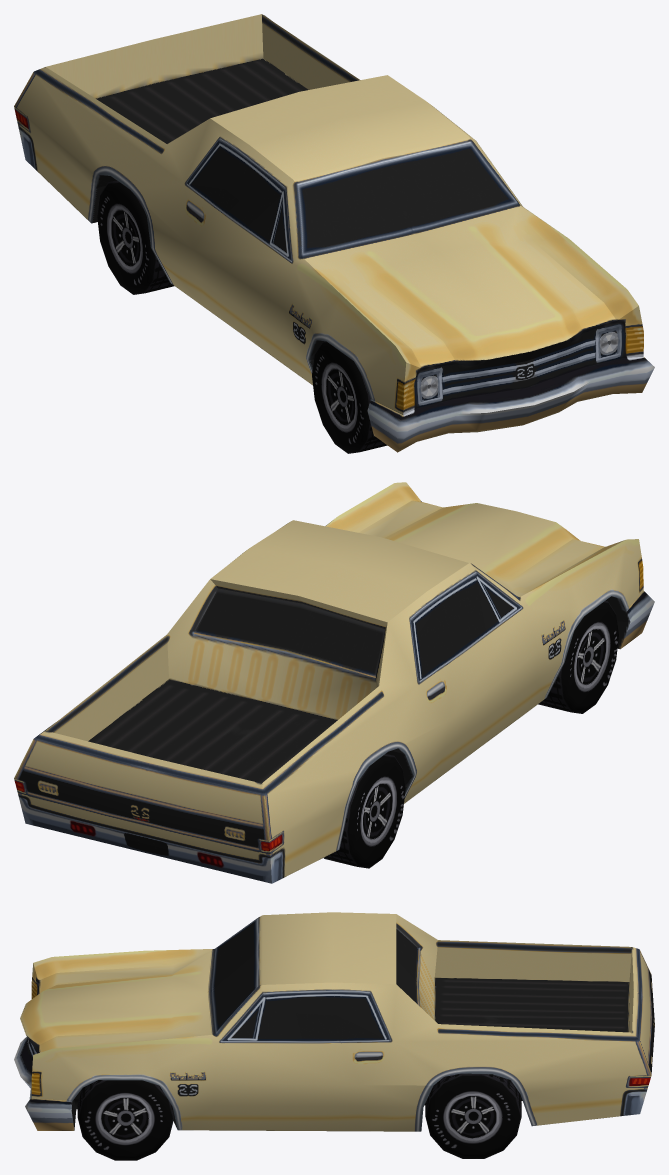
Rendered from Palamino.fbx.
3 renders of one model, top to bottom at view 1: azimuth 30°, elevation 25°; view 2: azimuth 150°, elevation 25°; view 3: azimuth 270°, elevation 25°, orthographic. The views are drawn at different scales.
Visible parts, largest first — view 1: PalaminoBody, WheelBR, WheelFR; view 2: PalaminoBody, WheelBR, WheelFR; view 3: PalaminoBody, WheelBL, WheelFL.
Boxes of the visible parts, <box> form: PalaminoBody: <box>14,14,654,452</box>; WheelBR: <box>97,180,174,294</box>; WheelFR: <box>312,341,387,453</box>; PalaminoBody: <box>14,482,654,883</box>; WheelBR: <box>324,753,405,868</box>; WheelFR: <box>538,600,618,713</box>; PalaminoBody: <box>14,912,654,1131</box>; WheelBL: <box>425,1073,521,1158</box>; WheelFL: <box>77,1080,174,1160</box>.
Size of the model in its own units: 192 by 144 by 500.
